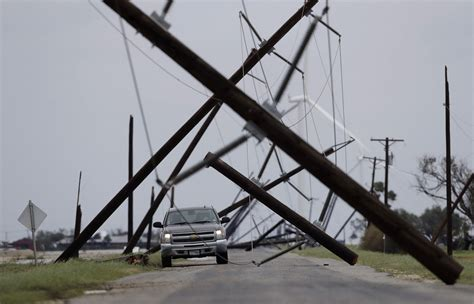pole: (433, 55, 468, 267), (119, 111, 144, 265), (370, 133, 409, 229)
